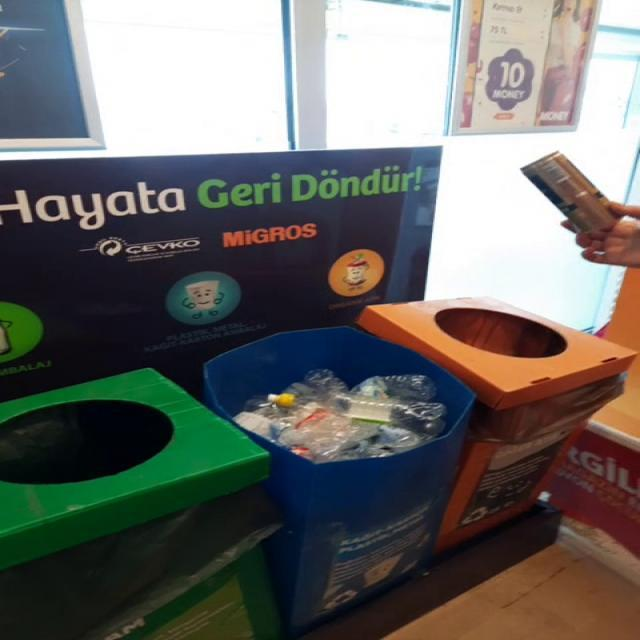Metal: (523, 151, 621, 232)
